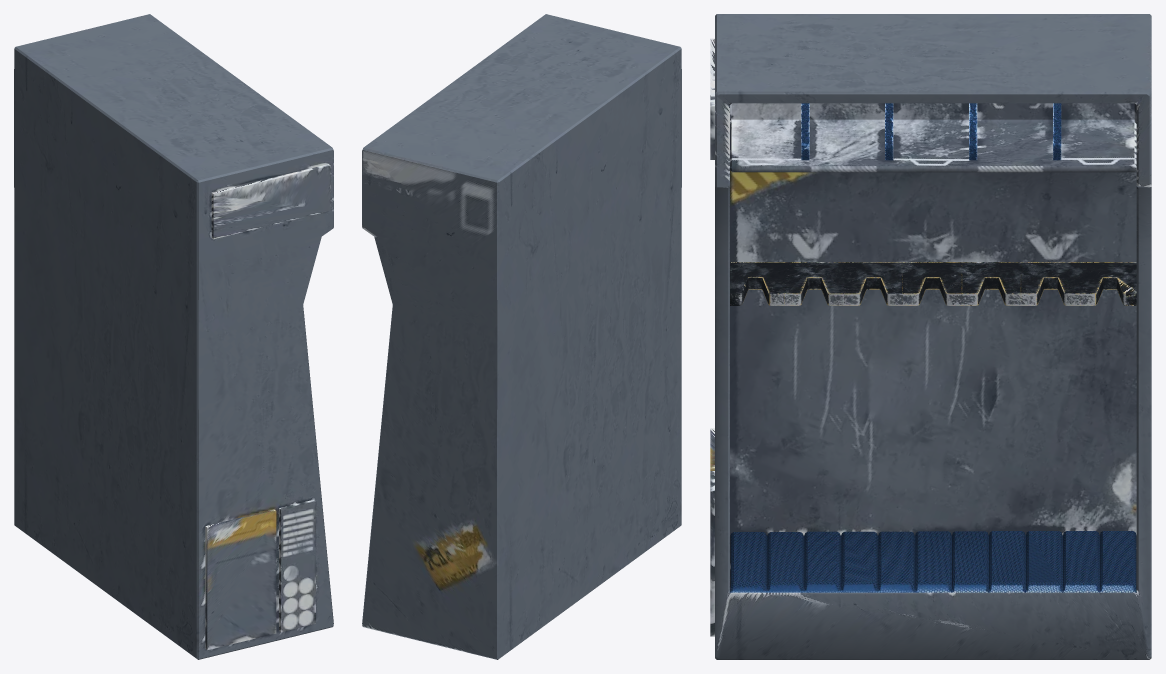
Rendered from weapon-rack.glb.
3 views of the same model, side by side, from view 1: azimuth 30°, elevation 25°; view 2: azimuth 150°, elevation 25°; view 3: azimuth 270°, elevation 25° (orthographic). The views are drawn at different scales.
Visible parts, largest first — view 1: CAISSE _M_BASE_0; view 2: CAISSE _M_BASE_0; view 3: CAISSE _M_BASE_0, CAISSE _M_SOCLE_0, CAISSE _M_SUPPORT_0, CAISSE _M_ARMOIR_0.
Boxes of the visible parts, x1,y1,x2,y2 form: CAISSE _M_BASE_0: (14,14,333,659); CAISSE _M_BASE_0: (362,14,681,659); CAISSE _M_BASE_0: (710,14,1151,659); CAISSE _M_SOCLE_0: (730,531,1136,592); CAISSE _M_SUPPORT_0: (730,262,1136,305); CAISSE _M_ARMOIR_0: (801,103,1061,160).
Bounding box in the file's own units: 1.6 × 5.33 × 3.76.
Materials: 5 (4 with a texture image).
